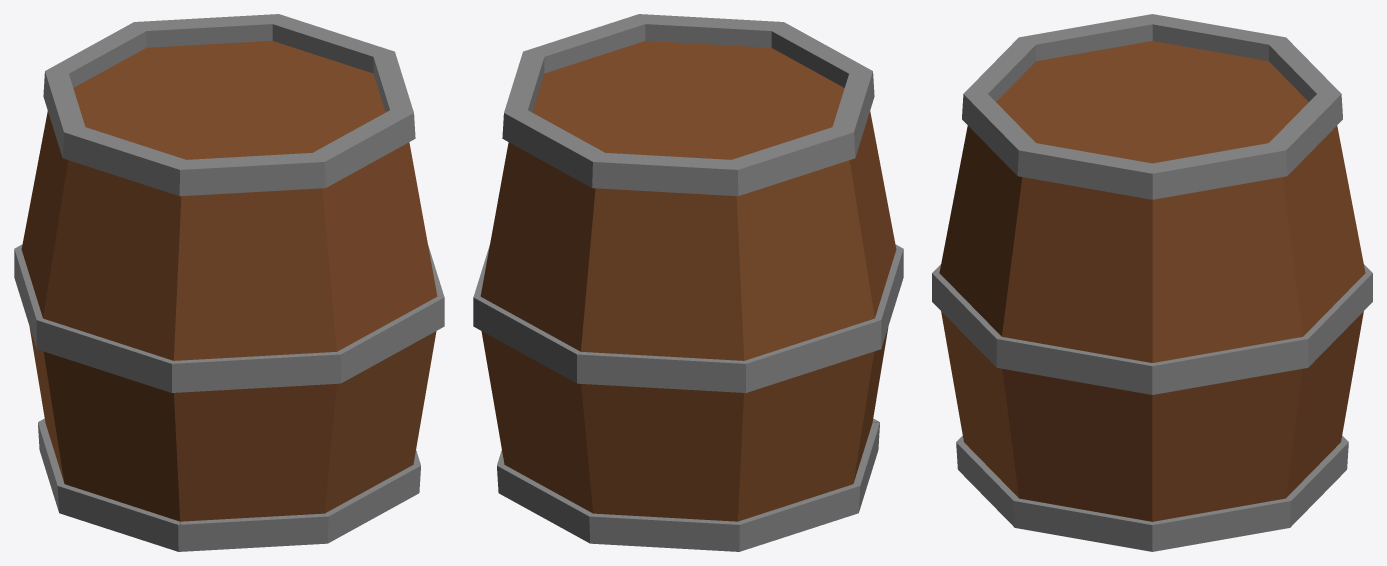
Rendered from BOCHKA (2).fbx.
The picture shows the model from 3 angles, left to right: view 1: azimuth 30°, elevation 25°; view 2: azimuth 150°, elevation 25°; view 3: azimuth 270°, elevation 25°; orthographic projection.
Visible parts, largest first — view 1: Circle.001, Circle.012, Circle.009, Circle.011, Circle.010, Circle.003, Circle.004, Circle.002, Circle.005, Circle.008, Circle.006; view 2: Circle.008, Circle.009, Circle.005, Circle.010, Circle.007, Circle.004, Circle.002, Circle.003, Circle.001, Circle.011, Circle.006, Circle.012; view 3: Circle.006, Circle.005, Circle.011, Circle.004, Circle.012, Circle.003, Circle.007, Circle.009, Circle.008, Circle.002, Circle.001.
Part boxes in pixels (bbox=[...]): Circle.001: bbox=[51, 153, 327, 521]; Circle.012: bbox=[178, 142, 420, 551]; Circle.009: bbox=[21, 65, 185, 372]; Circle.011: bbox=[329, 76, 444, 465]; Circle.010: bbox=[35, 344, 180, 551]; Circle.003: bbox=[73, 41, 283, 141]; Circle.004: bbox=[130, 75, 332, 159]; Circle.002: bbox=[236, 44, 385, 141]; Circle.005: bbox=[134, 14, 394, 73]; Circle.008: bbox=[14, 22, 146, 457]; Circle.006: bbox=[373, 51, 433, 263]; Circle.008: bbox=[548, 153, 790, 551]; Circle.009: bbox=[708, 71, 884, 379]; Circle.005: bbox=[473, 51, 604, 388]; Circle.010: bbox=[755, 351, 879, 546]; Circle.007: bbox=[491, 300, 593, 543]; Circle.004: bbox=[617, 44, 844, 129]; Circle.002: bbox=[532, 41, 715, 122]; Circle.003: bbox=[548, 121, 824, 159]; Circle.001: bbox=[771, 22, 903, 420]; Circle.011: bbox=[572, 14, 745, 61]; Circle.006: bbox=[488, 36, 581, 463]; Circle.012: bbox=[727, 19, 879, 422]; Circle.006: bbox=[1050, 156, 1290, 551]; Circle.005: bbox=[1152, 94, 1344, 460]; Circle.011: bbox=[947, 104, 1115, 543]; Circle.004: bbox=[996, 46, 1216, 131]; Circle.012: bbox=[932, 94, 1018, 527]; Circle.003: bbox=[1122, 41, 1308, 148]; Circle.007: bbox=[1263, 266, 1363, 531]; Circle.009: bbox=[1019, 14, 1292, 69]; Circle.008: bbox=[1278, 44, 1372, 442]; Circle.002: bbox=[1025, 129, 1238, 163]; Circle.001: bbox=[963, 37, 1035, 101].
Size of the model in its own units: 234 by 220 by 234.
